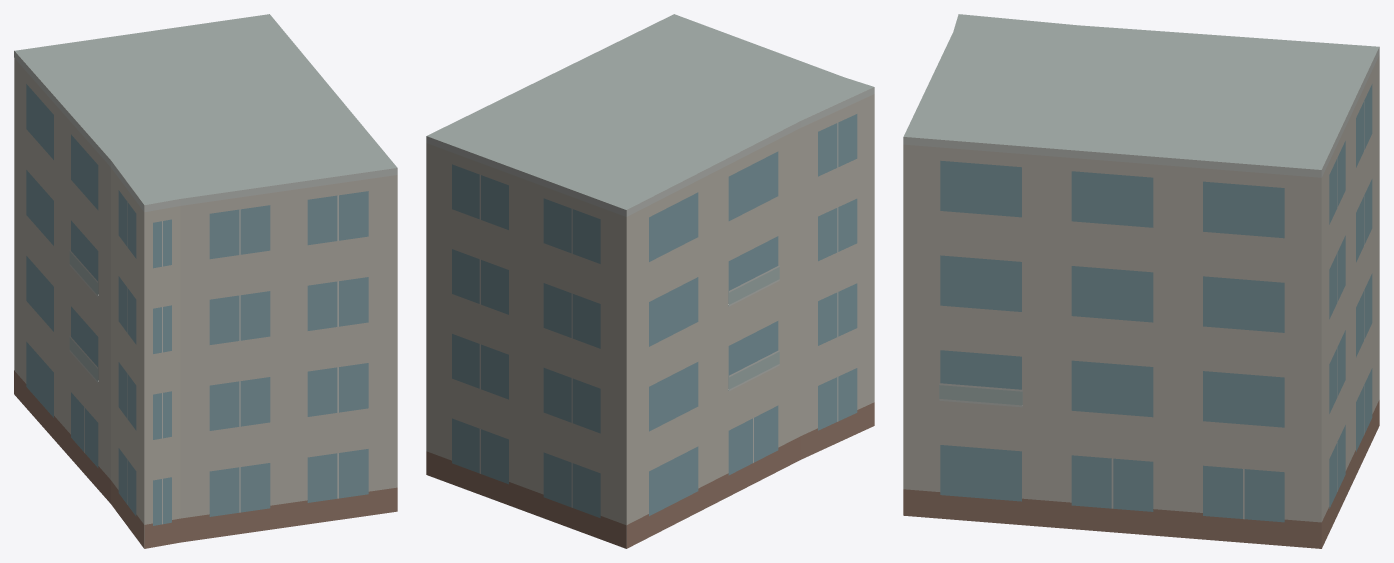
The model's file is survey-upis-32640603.glb.
3 renders of one model, left to right at view 1: azimuth 30°, elevation 25°; view 2: azimuth 150°, elevation 25°; view 3: azimuth 270°, elevation 25°, orthographic. The views are drawn at different scales.
Parts seen in each view (by area): view 1: survey-upis-32640603.tmp; view 2: survey-upis-32640603.tmp; view 3: survey-upis-32640603.tmp.
Boxes of the visible parts, left/top/right/bottom form: survey-upis-32640603.tmp: left=14, top=14, right=397, bottom=548; survey-upis-32640603.tmp: left=426, top=14, right=874, bottom=548; survey-upis-32640603.tmp: left=903, top=14, right=1379, bottom=548.
Size of the model in its own units: 10.52 by 11.9 by 13.56.
